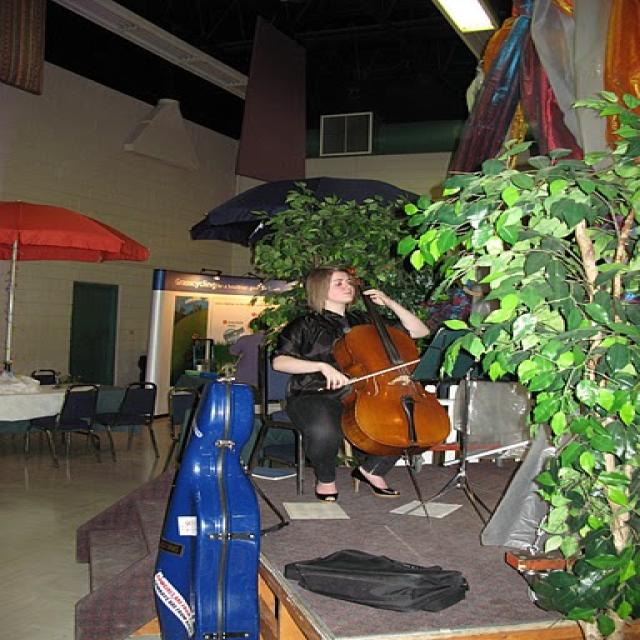cello: (328, 268, 453, 458)
